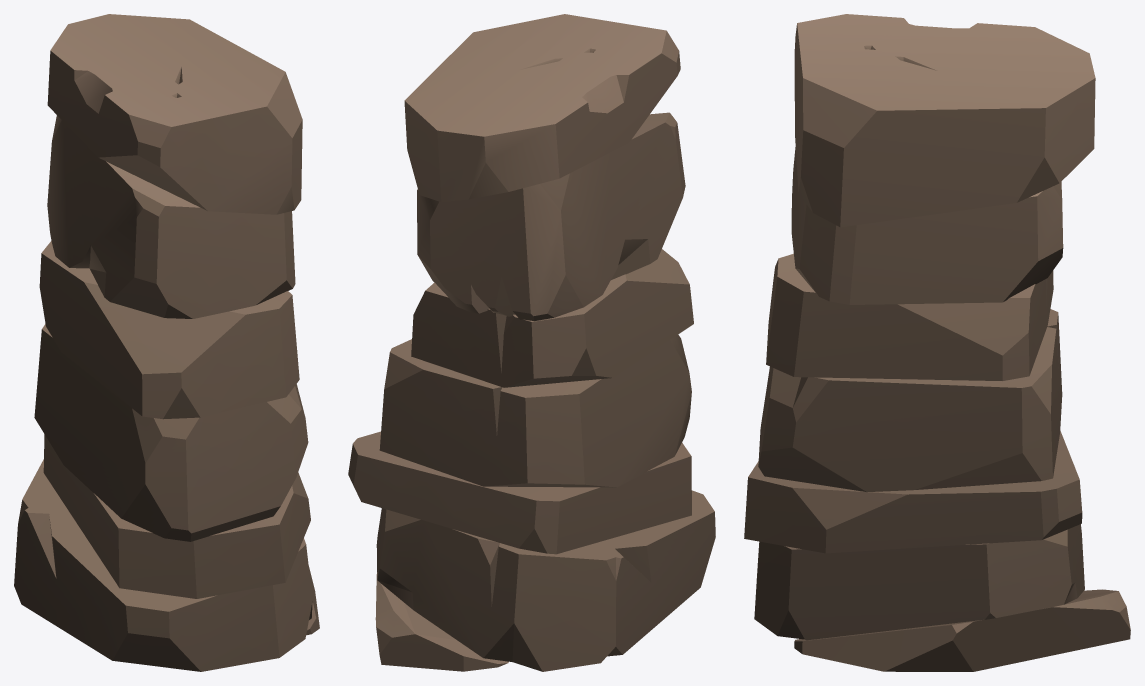
The model's file is Cliff_Vertical_1A.fbx.
3 views of the same model, side by side, from view 1: azimuth 30°, elevation 25°; view 2: azimuth 150°, elevation 25°; view 3: azimuth 270°, elevation 25° (orthographic). The views are drawn at different scales.
Parts seen in each view (by area): view 1: Cliff_Vertical_1A; view 2: Cliff_Vertical_1A; view 3: Cliff_Vertical_1A.
Part boxes in pixels (x1,y1,x2,y2): Cliff_Vertical_1A: [14, 14, 319, 671]; Cliff_Vertical_1A: [348, 14, 715, 671]; Cliff_Vertical_1A: [744, 14, 1130, 671].
Bounding box in the file's own units: 1002 × 2021 × 1275.
